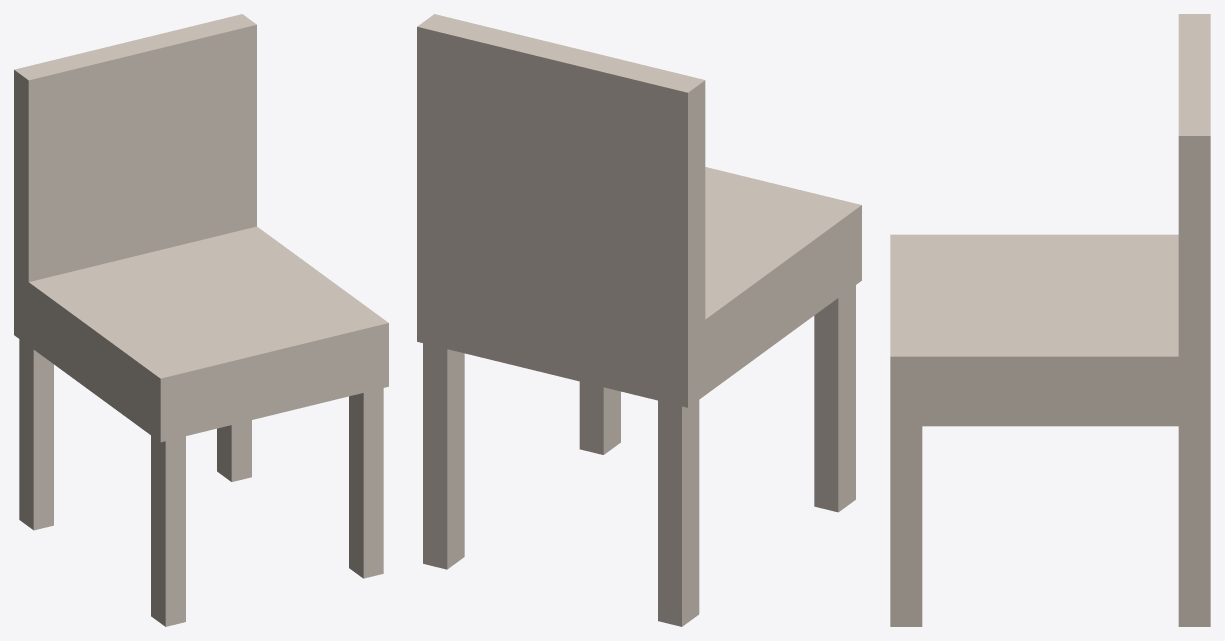
Rendered from chair.glb.
The picture shows the model from 3 angles, left to right: view 1: azimuth 30°, elevation 25°; view 2: azimuth 150°, elevation 25°; view 3: azimuth 270°, elevation 25°; orthographic projection. The views are drawn at different scales.
Bounding box in the file's own units: 0.45 × 0.85 × 0.5.
